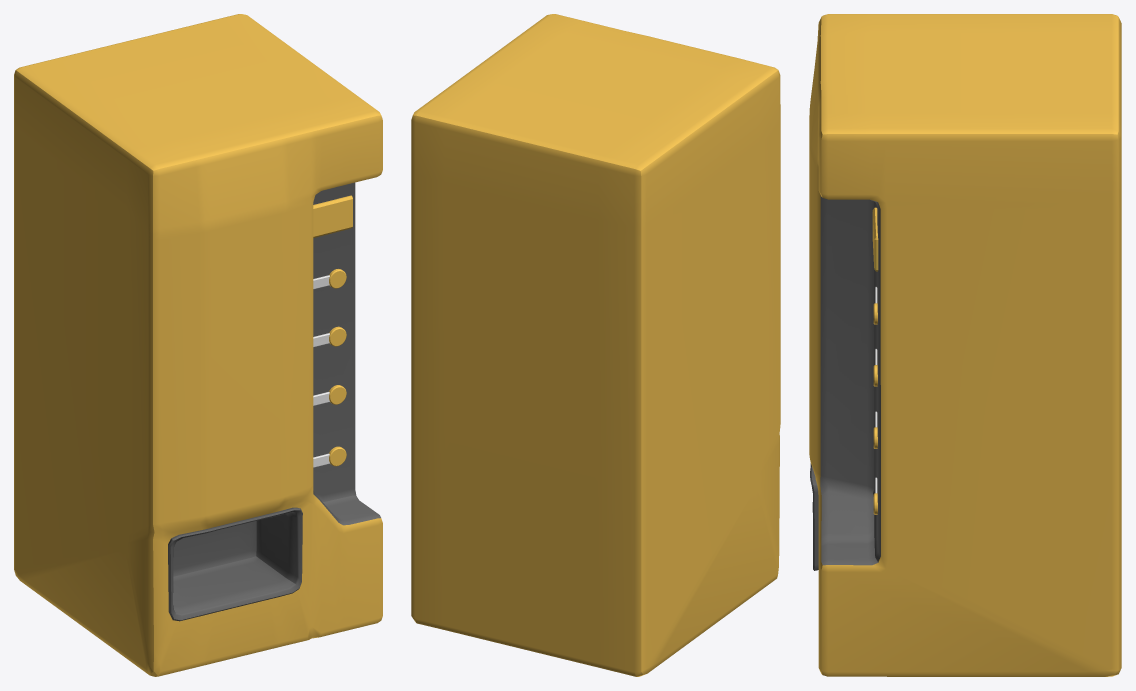
File: Otomat.fbx
3 views of the same model, side by side, from view 1: azimuth 30°, elevation 25°; view 2: azimuth 150°, elevation 25°; view 3: azimuth 270°, elevation 25° (orthographic). The views are drawn at different scales.
Visible parts, largest first — view 1: Otomat1; view 2: Otomat1; view 3: Otomat1.
Part boxes in pixels (x1,y1,x2,y2): Otomat1: (14, 14, 382, 676); Otomat1: (411, 14, 780, 676); Otomat1: (809, 14, 1121, 676).
Bounding box in the file's own units: 90.43 × 189 × 97.46.
